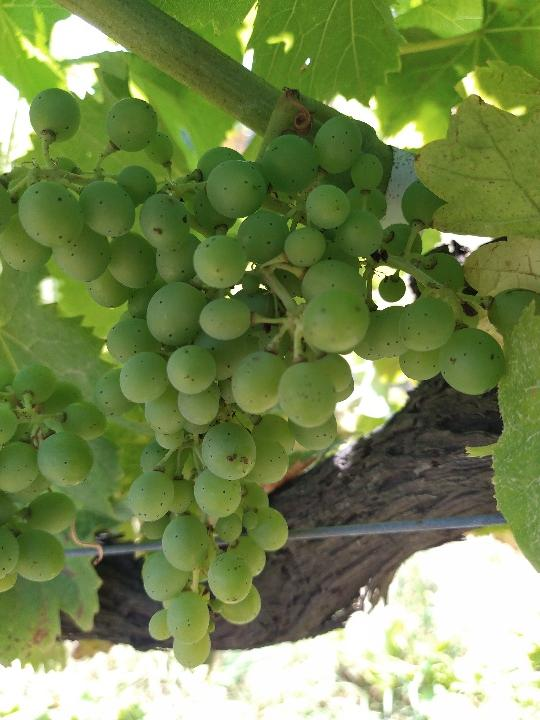grape: (3, 88, 534, 669)
